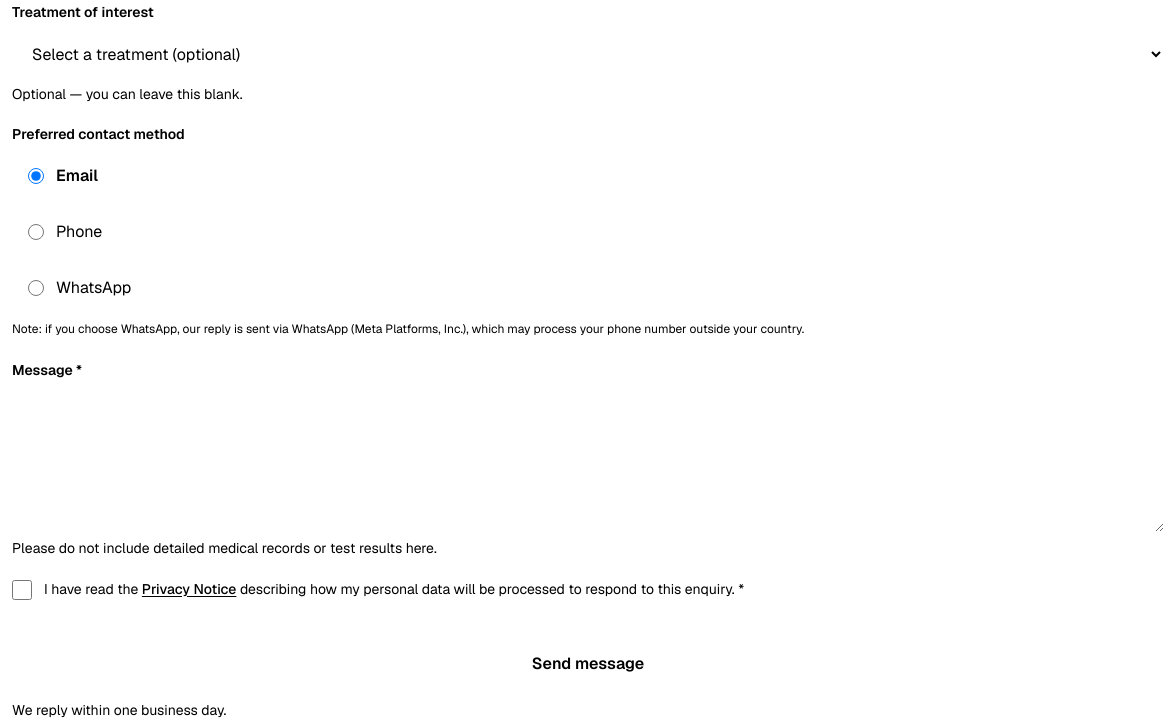
Test case: ContactPageForm › boş gönderimde alan altı hatalar (aria-describedby) ve ilk hatalı alana odak
(page scrolled)
Step 1. Click the button "Send message" → [588, 664], box x1=12 y1=640 x2=1164 y2=688
(page scrolled)
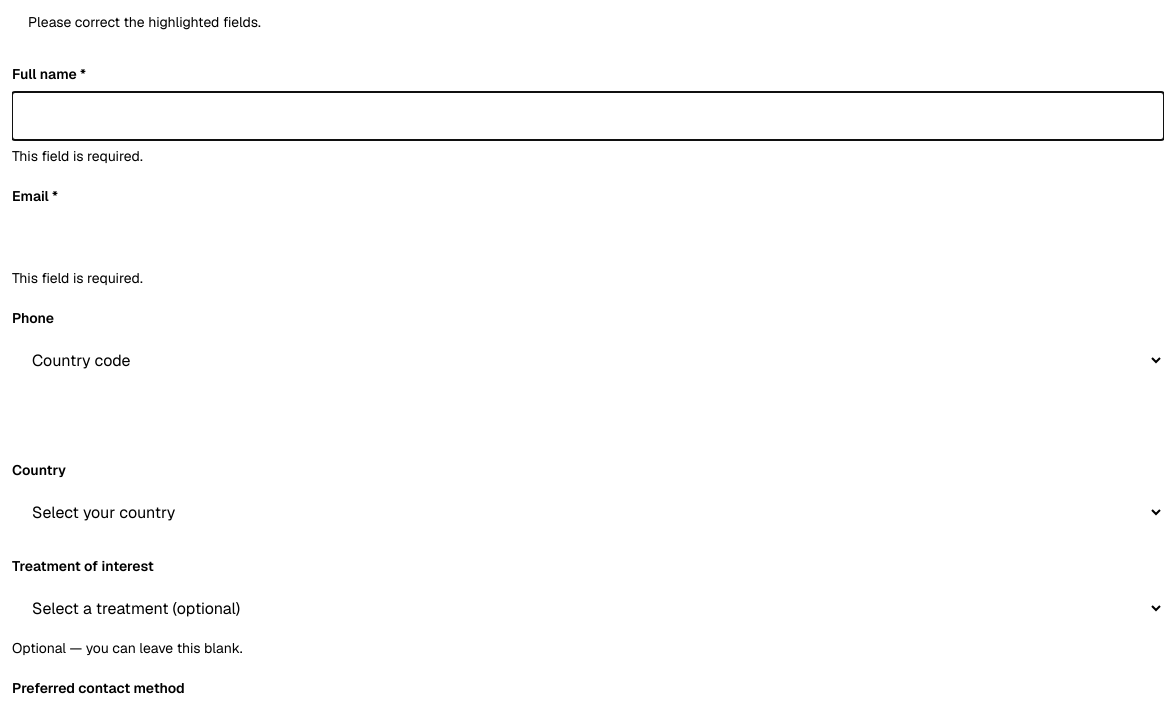
Now the text "This field is required." below "Full name" is shown, box x1=12 y1=147 x2=143 y2=165
Now the message reads "Please correct the highlighted fields.", box x1=28 y1=13 x2=261 y2=31
